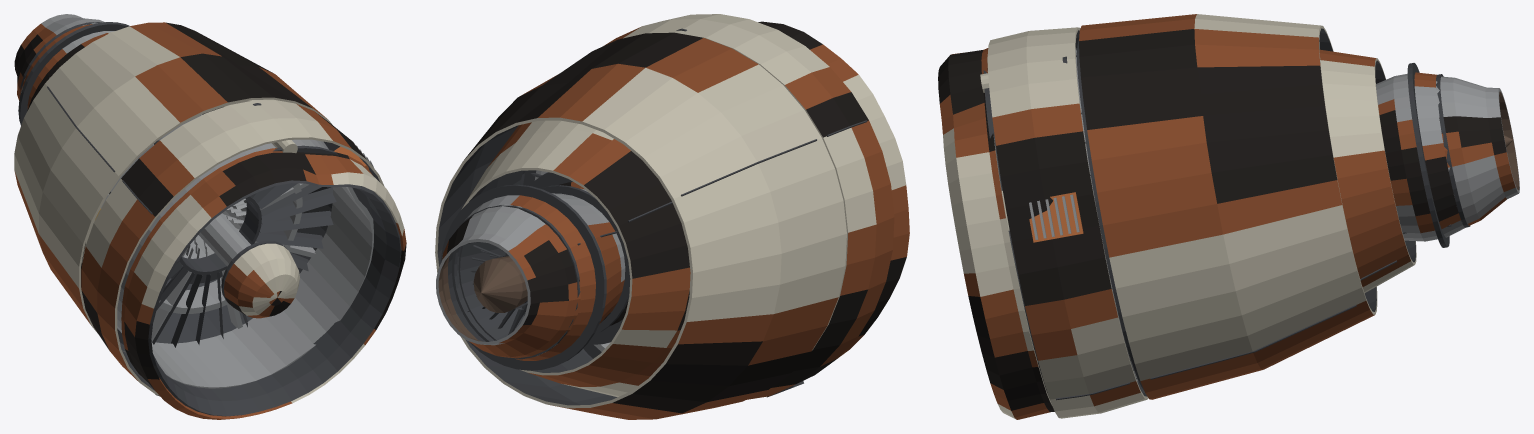
The model's file is turbofan.glb.
3 views of the same model, side by side, from view 1: azimuth 30°, elevation 25°; view 2: azimuth 150°, elevation 25°; view 3: azimuth 270°, elevation 25° (orthographic). The views are drawn at different scales.
Visible parts, largest first — view 1: Shell, Mod_inlet, Mod_reverser_b, Mod_reverser_a, Mod_fancowl_b, Mod_fancowl_a, Mod_spinner, Mod_corecowl_a, Mod_nozzle, Mod_corecowl_b, Mod_compressor, Mod_casing_b (+1 smaller); view 2: Mod_reverser_a, Mod_reverser_b, Mod_nozzle, Mod_corecowl_a, Mod_fancowl_a, Mod_corecowl_b, Mod_fancowl_b, Shell, Mod_inlet, Mod_casing_a, Mod_casing_b, Mod_turbine; view 3: Mod_reverser_b, Mod_fancowl_b, Mod_inlet, Mod_corecowl_b, Mod_casing_b, Mod_nozzle, Mod_reverser_a, Shell, Mod_oilcooler, Mod_fancowl_a, Mod_corecowl_a.
Boxes of the visible parts, x1,y1,x2,y2 form: Shell: [18, 22, 373, 388]; Mod_inlet: [121, 148, 406, 419]; Mod_reverser_b: [45, 22, 338, 176]; Mod_reverser_a: [14, 83, 125, 351]; Mod_fancowl_b: [121, 100, 384, 217]; Mod_fancowl_a: [81, 179, 159, 395]; Mod_spinner: [223, 243, 299, 318]; Mod_corecowl_a: [27, 74, 299, 343]; Mod_nozzle: [14, 14, 104, 100]; Mod_corecowl_b: [47, 31, 332, 272]; Mod_compressor: [182, 198, 246, 258]; Mod_casing_b: [38, 24, 114, 70]; Mod_reverser_a: [460, 138, 846, 419]; Mod_reverser_b: [435, 32, 821, 272]; Mod_nozzle: [436, 204, 580, 358]; Mod_corecowl_a: [520, 203, 690, 397]; Mod_fancowl_a: [581, 120, 894, 399]; Mod_corecowl_b: [461, 120, 672, 226]; Mod_fancowl_b: [521, 14, 868, 184]; Shell: [440, 170, 630, 370]; Mod_inlet: [758, 21, 909, 356]; Mod_casing_a: [457, 233, 628, 360]; Mod_casing_b: [448, 182, 617, 313]; Mod_turbine: [458, 242, 527, 340]; Mod_reverser_b: [1079, 14, 1366, 380]; Mod_fancowl_b: [987, 27, 1135, 400]; Mod_inlet: [938, 48, 1054, 419]; Mod_corecowl_b: [1319, 49, 1408, 280]; Mod_casing_b: [1376, 72, 1460, 233]; Mod_nozzle: [1436, 76, 1519, 225]; Mod_reverser_a: [1140, 41, 1377, 399]; Shell: [983, 40, 1470, 396]; Mod_oilcooler: [1029, 192, 1083, 242]; Mod_fancowl_a: [1050, 379, 1148, 418]; Mod_corecowl_a: [1360, 69, 1416, 293].
Bounding box in the file's own units: 1.85 × 1.94 × 2.76.
